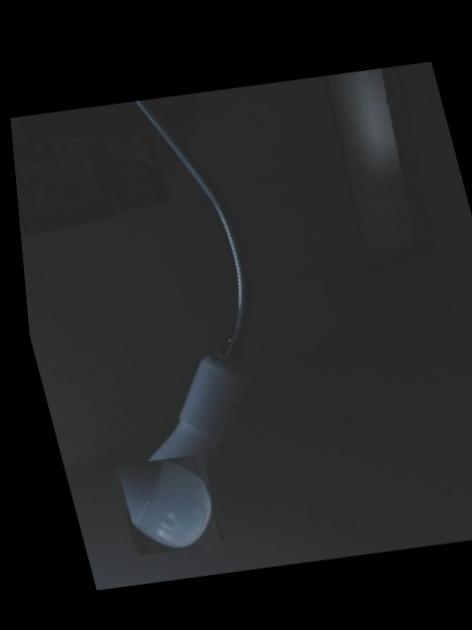Fan: (106, 451, 214, 556)
